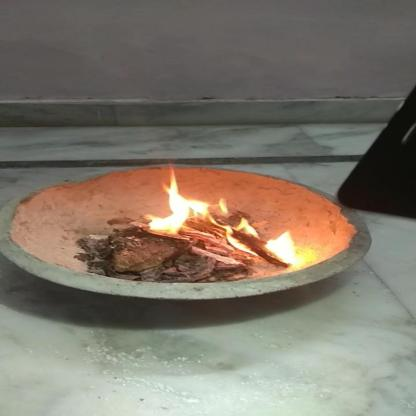fire: (142, 182, 300, 264)
